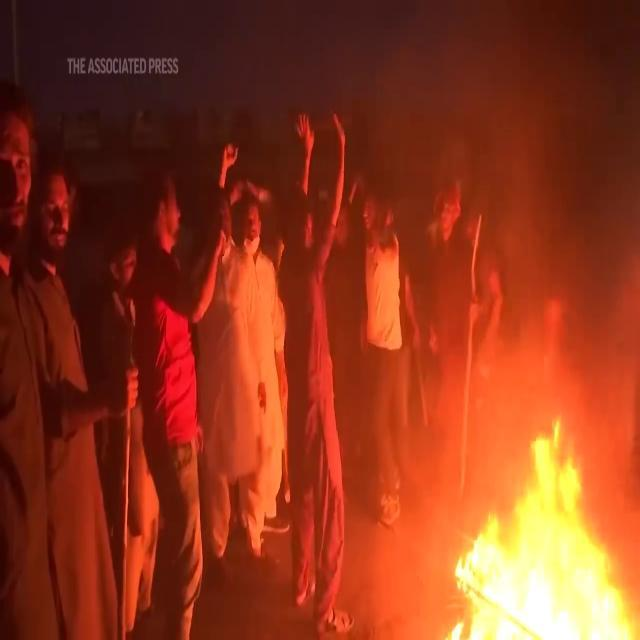Fire: (438, 405, 640, 640)
